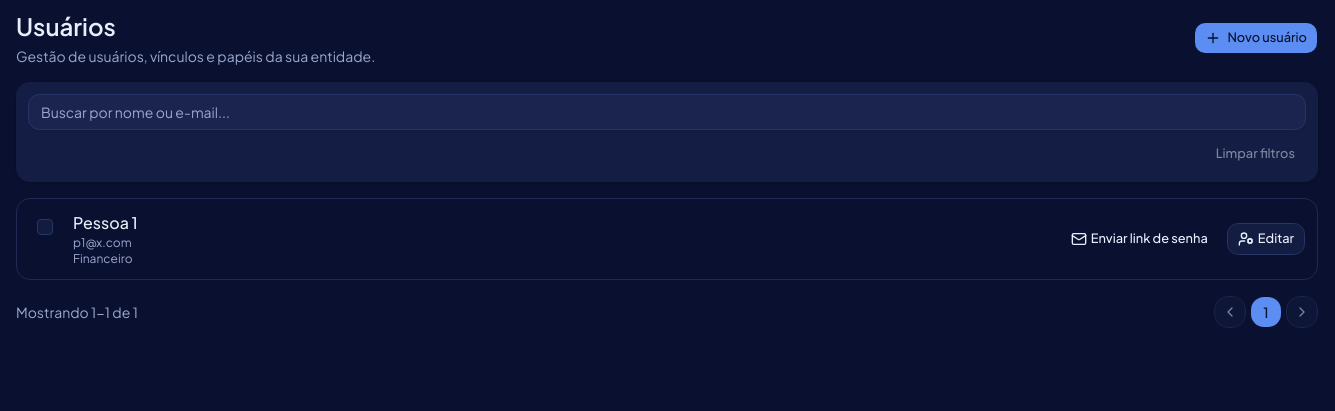
Test case: UsuariosPage — reenvio em lote › "Limpar seleção" zera a barra
expect the text "Pessoa 1" is shown: met, box x1=73 y1=211 x2=138 y2=235
Click the checkbox named "Selecionar Pessoa 1" at (45, 227), box x1=37 y1=219 x2=53 y2=235
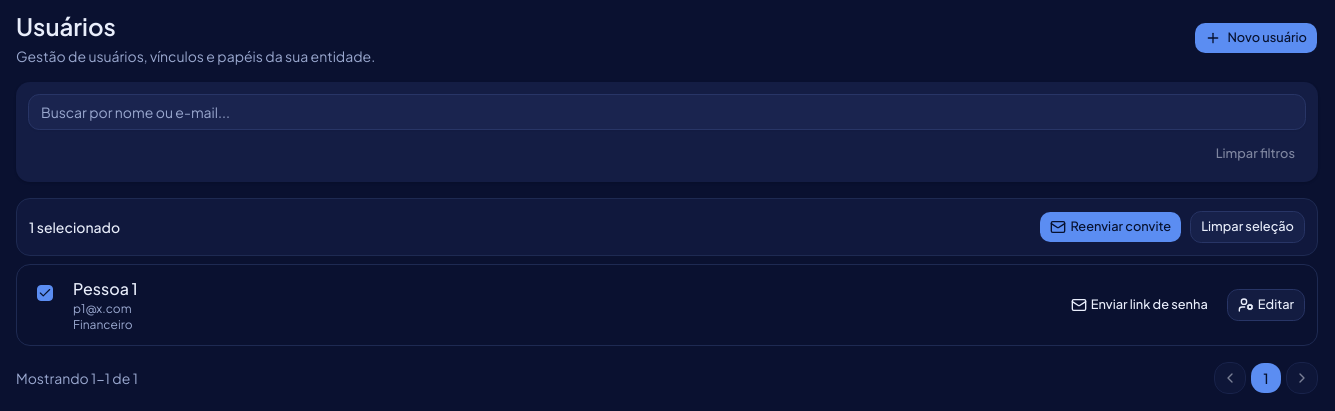
Click the button "Limpar seleção" at (1248, 227), box x1=1190 y1=211 x2=1305 y2=243
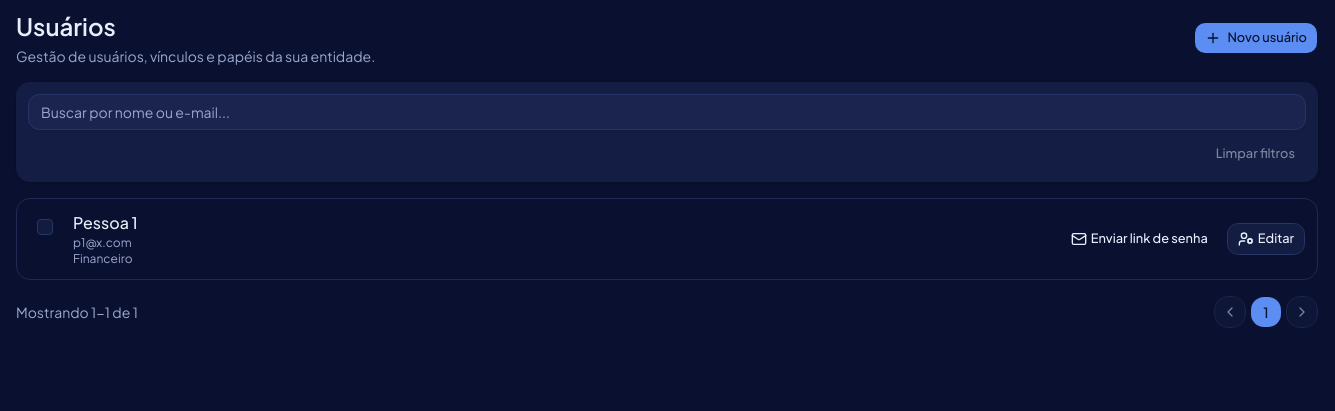
expect the message "1 selecionado" is gone: met
